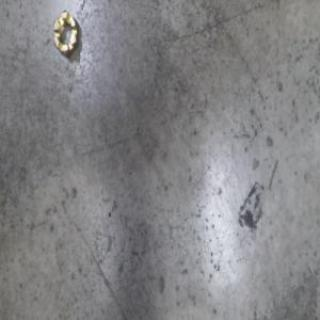Nuttrack_idkeyframe: (52, 10, 80, 60)
